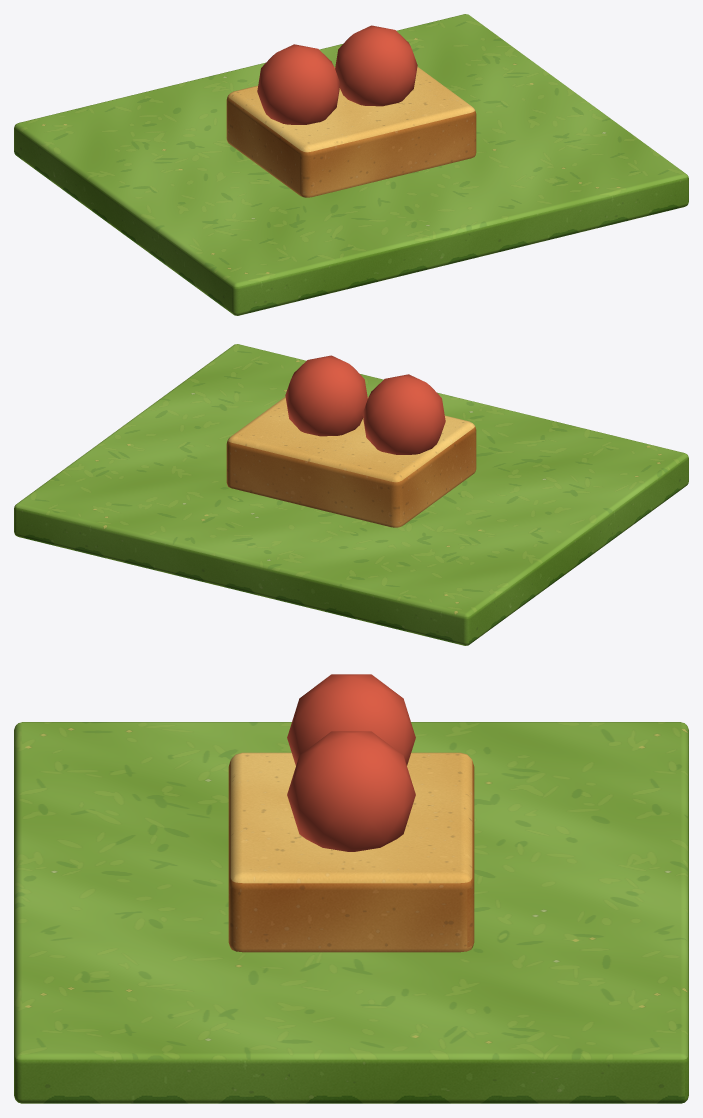
Rendered from picnic.glb.
The picture shows the model from 3 angles, top to bottom: view 1: azimuth 30°, elevation 25°; view 2: azimuth 150°, elevation 25°; view 3: azimuth 270°, elevation 25°; orthographic projection. The views are drawn at different scales.
Visible parts, largest first — view 1: Picnic mat, Fruit bowl, Apple, Apple.001; view 2: Picnic mat, Fruit bowl, Apple, Apple.001; view 3: Picnic mat, Fruit bowl, Apple.001, Apple.
Part boxes in pixels (left/top/right/bottom): Picnic mat: left=14, top=14, right=688, bottom=315; Fruit bowl: left=226, top=66, right=476, bottom=197; Apple: left=257, top=44, right=340, bottom=124; Apple.001: left=335, top=25, right=417, bottom=106; Picnic mat: left=14, top=344, right=688, bottom=645; Fruit bowl: left=226, top=396, right=476, bottom=527; Apple: left=362, top=374, right=445, bottom=454; Apple.001: left=285, top=355, right=367, bottom=436; Picnic mat: left=14, top=722, right=688, bottom=1103; Fruit bowl: left=228, top=752, right=474, bottom=952; Apple.001: left=287, top=731, right=415, bottom=851; Apple: left=287, top=674, right=415, bottom=765.
Size of the model in its own units: 1.3 by 0.4 by 1.1.
Materials: 5 (4 with a texture image).
